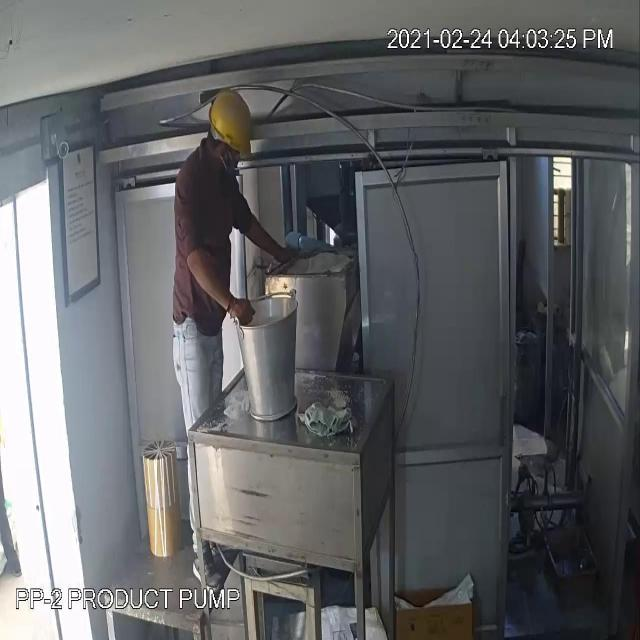hat: (208, 86, 255, 156)
